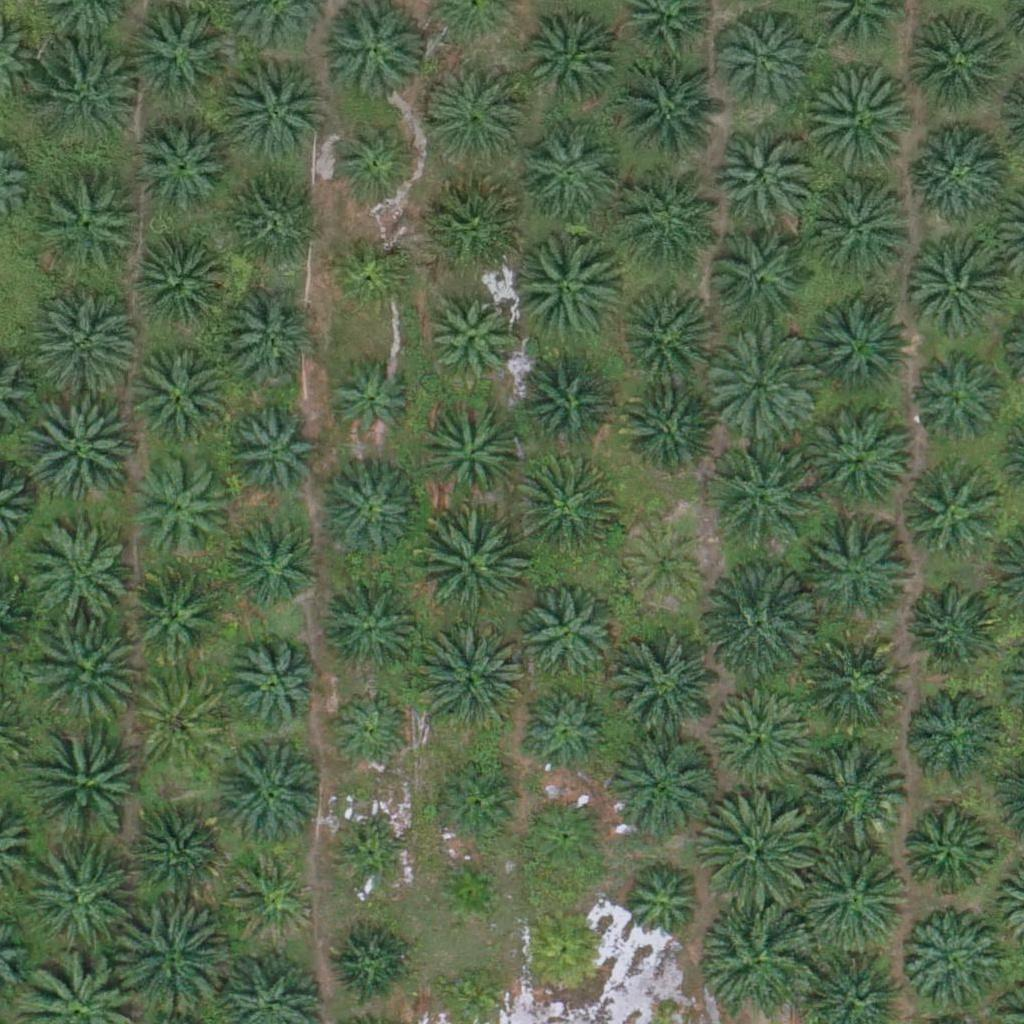Kelapa_Sawit: (28, 39, 141, 153), (32, 175, 145, 289), (19, 843, 132, 957), (702, 443, 815, 557), (28, 615, 141, 729), (25, 287, 138, 400), (503, 229, 616, 342), (802, 67, 915, 180), (705, 900, 818, 1013), (795, 736, 908, 849), (702, 569, 815, 682), (412, 622, 525, 735), (413, 510, 526, 623), (22, 523, 135, 636), (28, 394, 141, 507), (798, 837, 910, 951), (700, 789, 812, 903), (30, 718, 142, 832), (219, 56, 331, 169), (423, 56, 535, 169), (612, 56, 724, 169), (703, 328, 815, 441), (804, 171, 916, 284), (111, 905, 223, 1018), (511, 452, 623, 565), (213, 736, 325, 849), (609, 635, 721, 748), (604, 728, 716, 841), (136, 232, 236, 333), (136, 115, 236, 216), (220, 179, 320, 280), (225, 288, 325, 389), (435, 175, 535, 276), (517, 122, 617, 223), (508, 351, 608, 452), (611, 282, 711, 383), (621, 182, 721, 283), (715, 9, 815, 110), (712, 125, 812, 226), (810, 290, 910, 391), (905, 13, 1005, 114), (911, 121, 1011, 222), (910, 246, 1010, 347), (895, 802, 995, 903), (902, 910, 1002, 1011), (711, 690, 811, 791), (516, 584, 616, 685), (420, 403, 520, 504), (318, 463, 418, 564), (320, 576, 420, 677), (222, 635, 322, 736), (128, 453, 228, 554), (125, 563, 225, 664), (132, 346, 232, 446), (523, 8, 623, 108), (705, 232, 805, 332), (126, 806, 226, 906), (907, 680, 1007, 780), (899, 460, 999, 560), (904, 576, 1004, 676), (810, 409, 910, 509), (810, 526, 910, 626), (802, 639, 902, 739), (612, 379, 712, 479), (131, 672, 231, 772), (520, 904, 608, 993), (329, 227, 417, 315), (329, 114, 417, 202), (424, 295, 512, 383), (520, 791, 608, 879), (621, 522, 709, 610), (325, 689, 413, 777), (228, 521, 316, 609), (227, 412, 315, 500), (522, 687, 609, 776), (324, 359, 411, 447), (913, 355, 1000, 443), (228, 854, 315, 942), (327, 918, 414, 1006), (616, 859, 703, 947), (431, 761, 518, 849), (431, 853, 506, 929), (337, 824, 412, 899)
